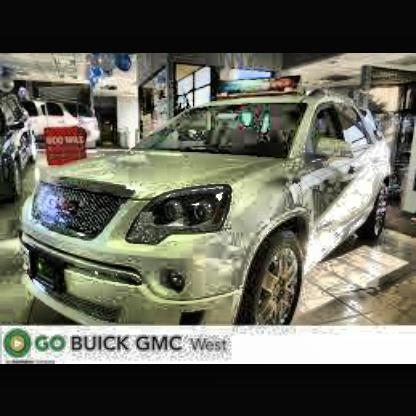GMC Acadia SUV 2012: (22, 78, 409, 328)
